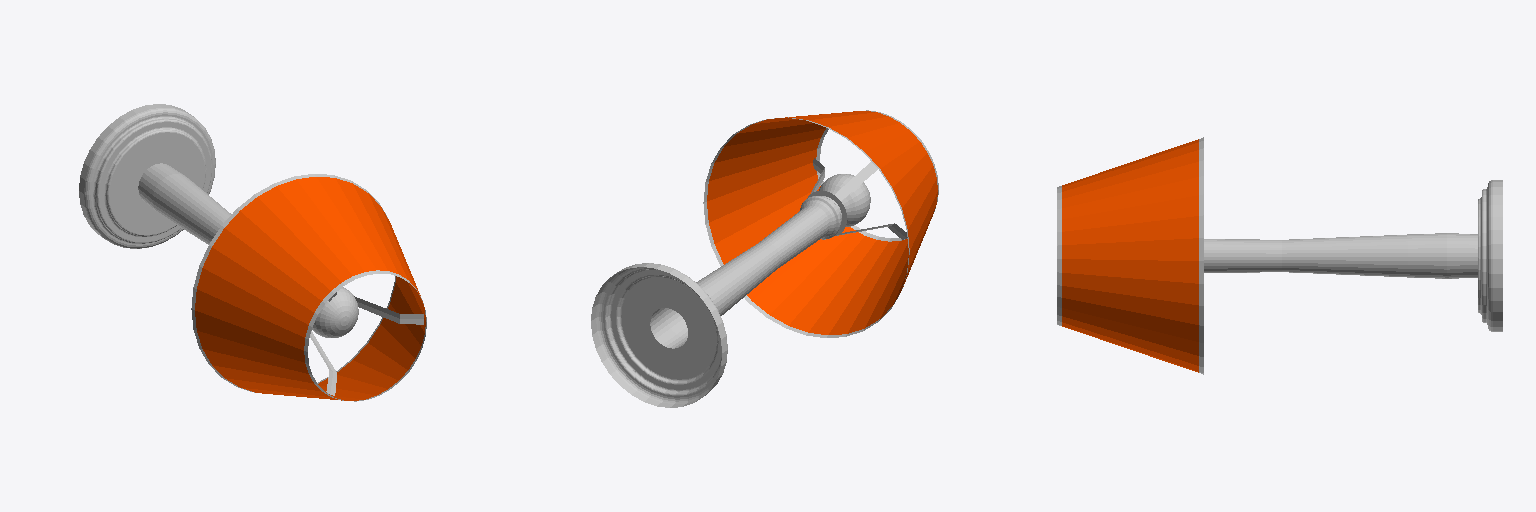
The model's file is Lamp.obj.
3 renders of one model, left to right at view 1: azimuth 30°, elevation 25°; view 2: azimuth 150°, elevation 25°; view 3: azimuth 270°, elevation 25°, orthographic.
Visible parts, largest first — view 1: Lamp_Circle.005; view 2: Lamp_Circle.005; view 3: Lamp_Circle.005.
Boxes of the visible parts, box(x1,y1,x2,y2) form: Lamp_Circle.005: box(79, 104, 426, 401); Lamp_Circle.005: box(591, 110, 938, 407); Lamp_Circle.005: box(1057, 137, 1502, 374).
Bounding box in the file's own units: 40.67 × 40.67 × 76.42.